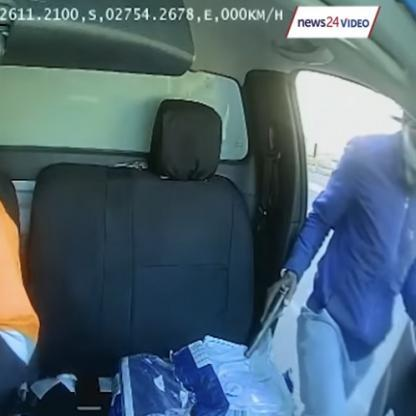weapon: (241, 281, 293, 363)
